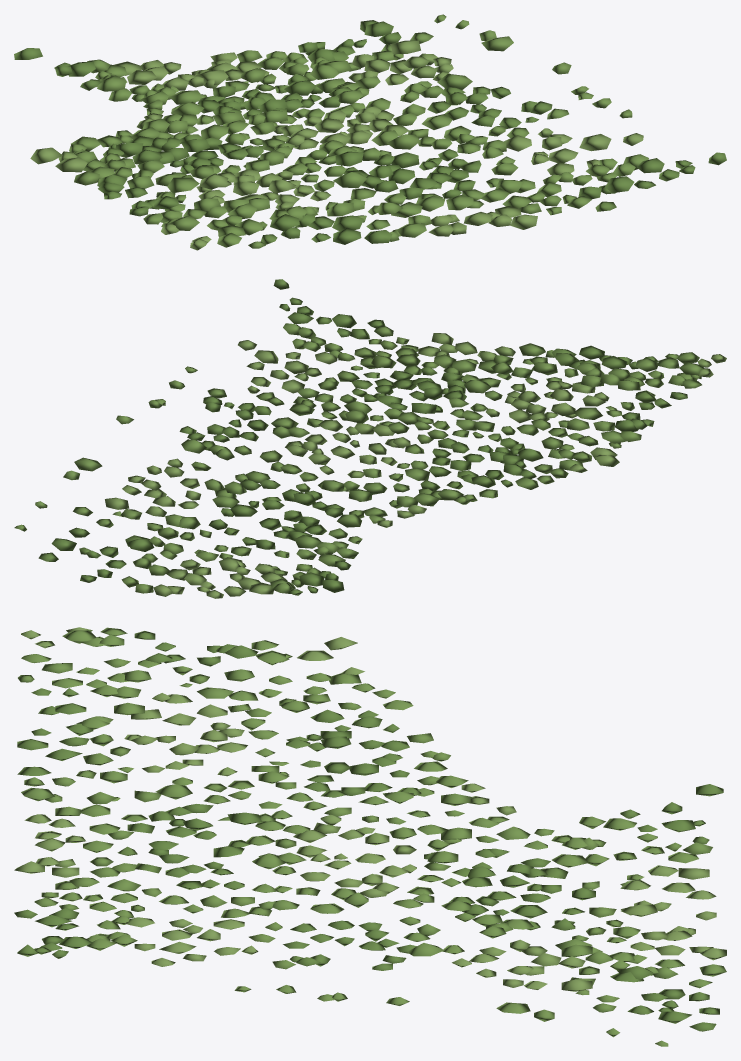
File: canopy-1--1--1.glb
The picture shows the model from 3 angles, top to bottom: view 1: azimuth 30°, elevation 25°; view 2: azimuth 150°, elevation 25°; view 3: azimuth 270°, elevation 25°; orthographic projection. The views are drawn at different scales.
Size of the model in its own units: 512 by 128 by 518.
1 material, 1 textured.
